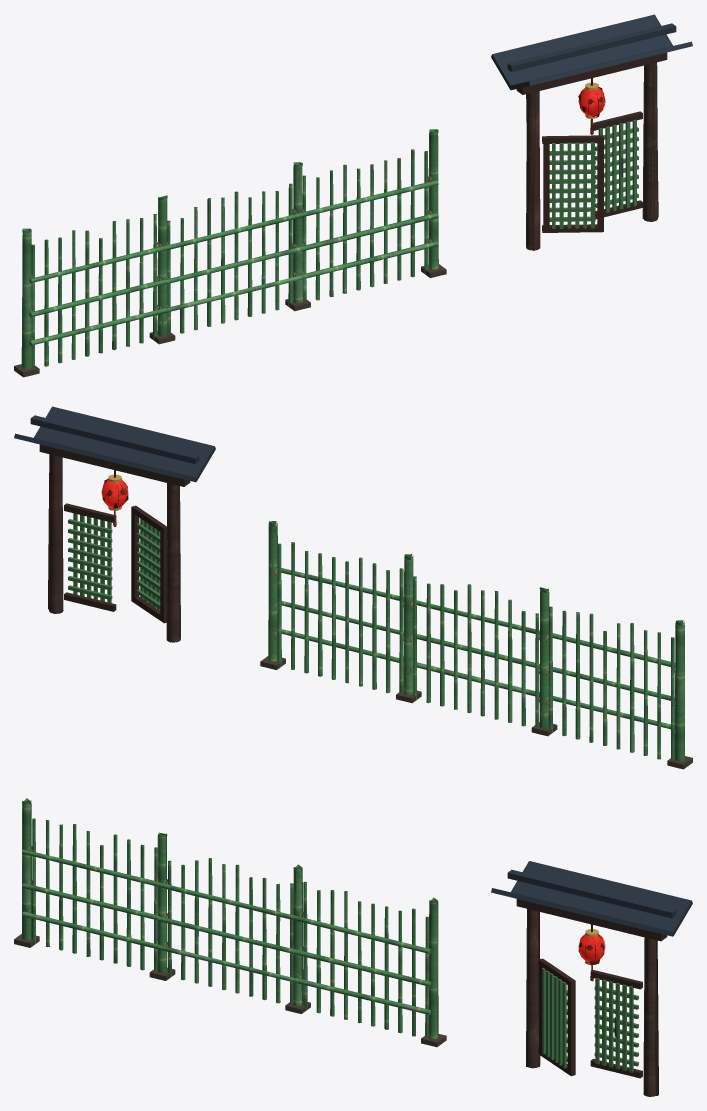
Rendered from prop_bamboo_fence.gltf.
3 renders of one model, top to bottom at view 1: azimuth 30°, elevation 25°; view 2: azimuth 150°, elevation 25°; view 3: azimuth 330°, elevation 25°, orthographic.
Parts seen in each view (by area): view 1: Near, Far; view 2: Near, Far; view 3: Near, Far.
Part boxes in pixels (x1,y1,x2,y2): Near: [22, 62, 657, 369]; Far: [14, 14, 692, 377]; Near: [49, 454, 684, 761]; Far: [14, 406, 692, 769]; Near: [22, 800, 656, 1096]; Far: [14, 798, 692, 1095].
Size of the model in its own units: 7.25 by 2 by 0.752.
12 materials, 7 textured.
